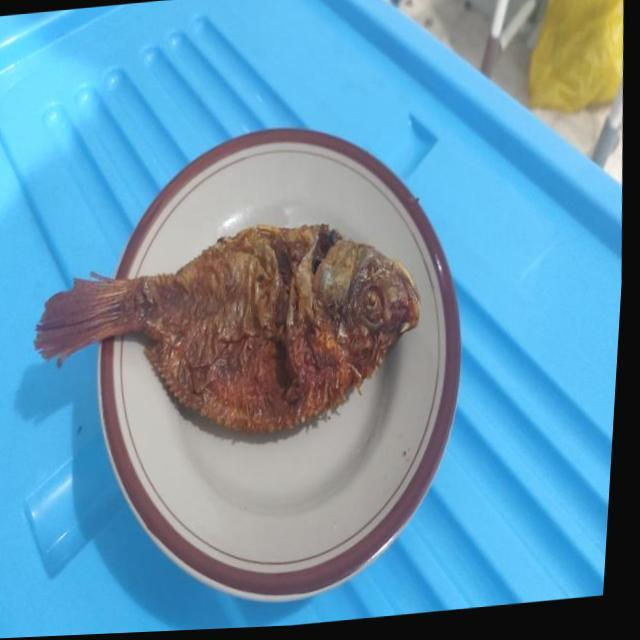ikan_mujair: (34, 224, 420, 433)
